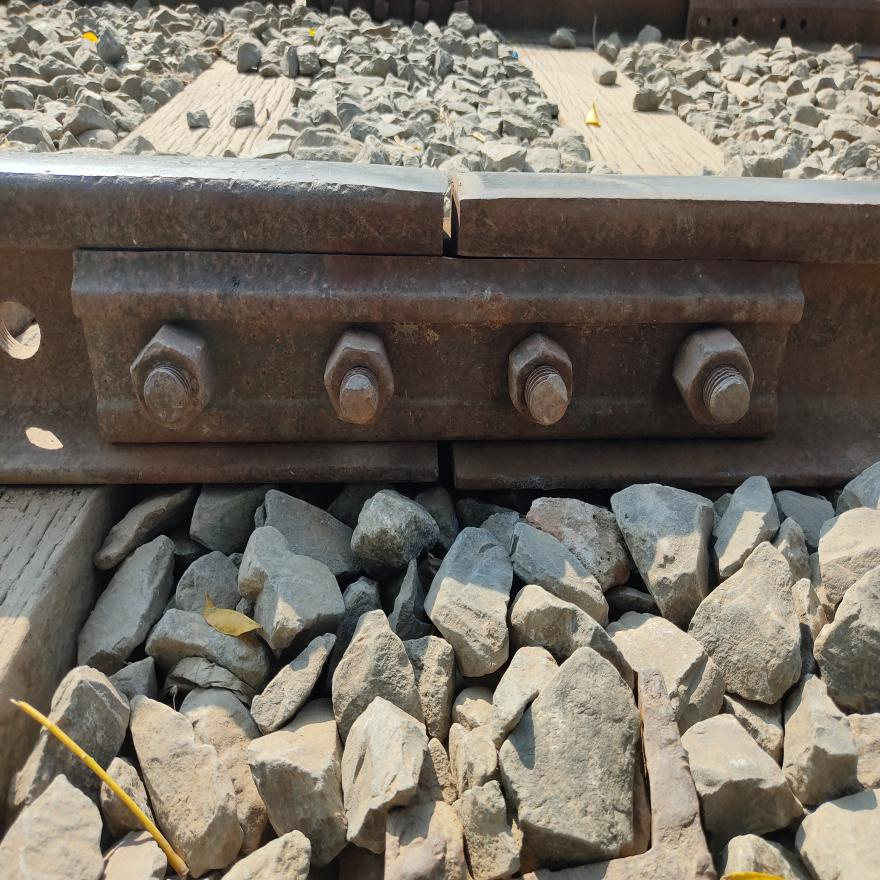railway-gap: (345, 88, 557, 331), (395, 411, 495, 513)
